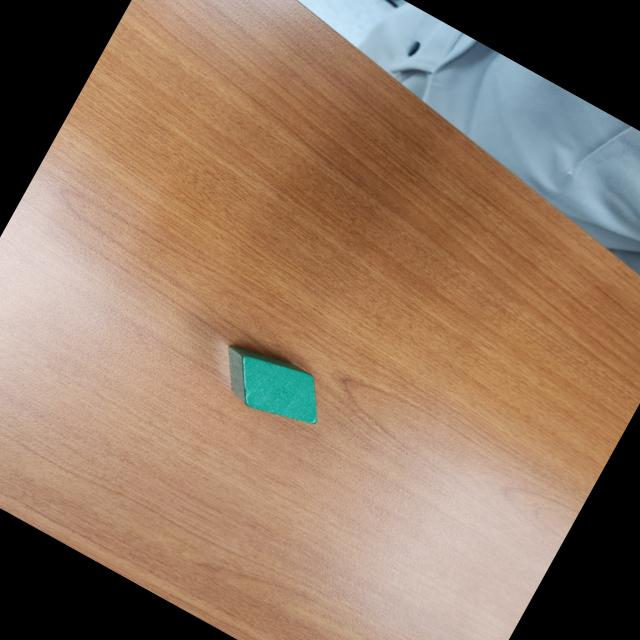green: (205, 331, 338, 441)
